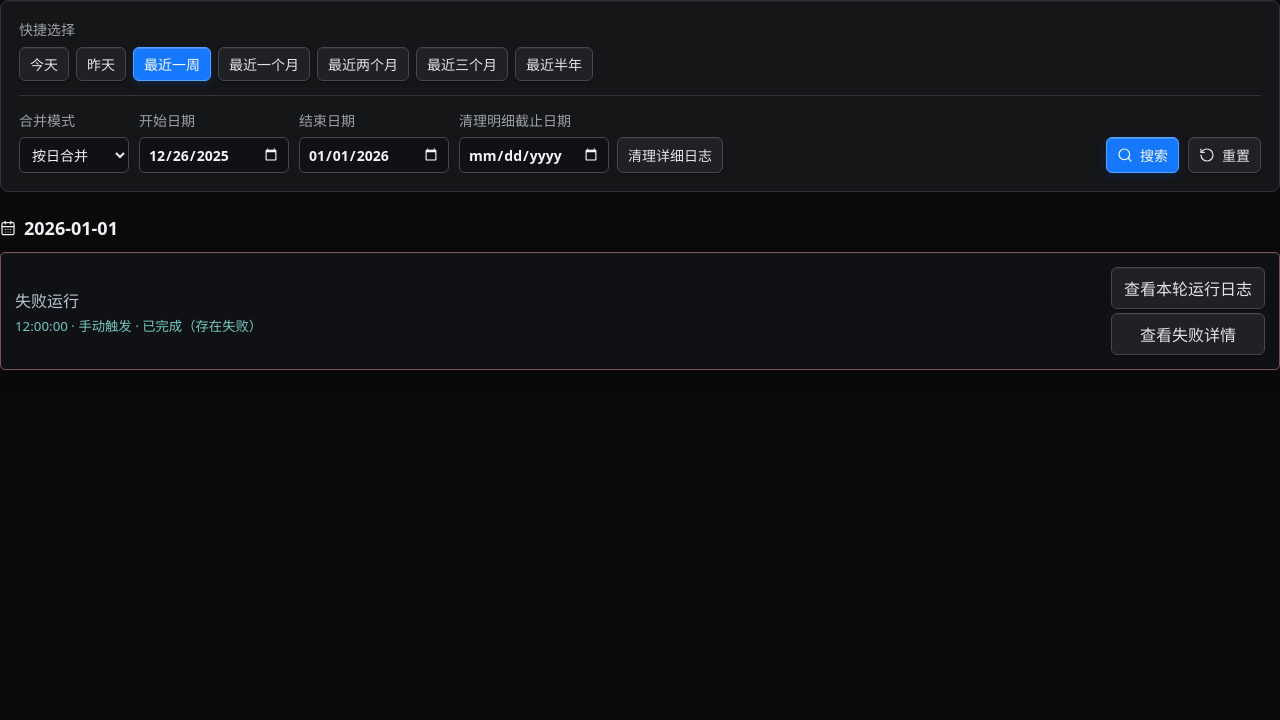
Scenario: shows the run log entry and distinguishes failure
Click the button "查看本轮运行日志". click: (1188, 288)
box: [1111,267,1265,309]
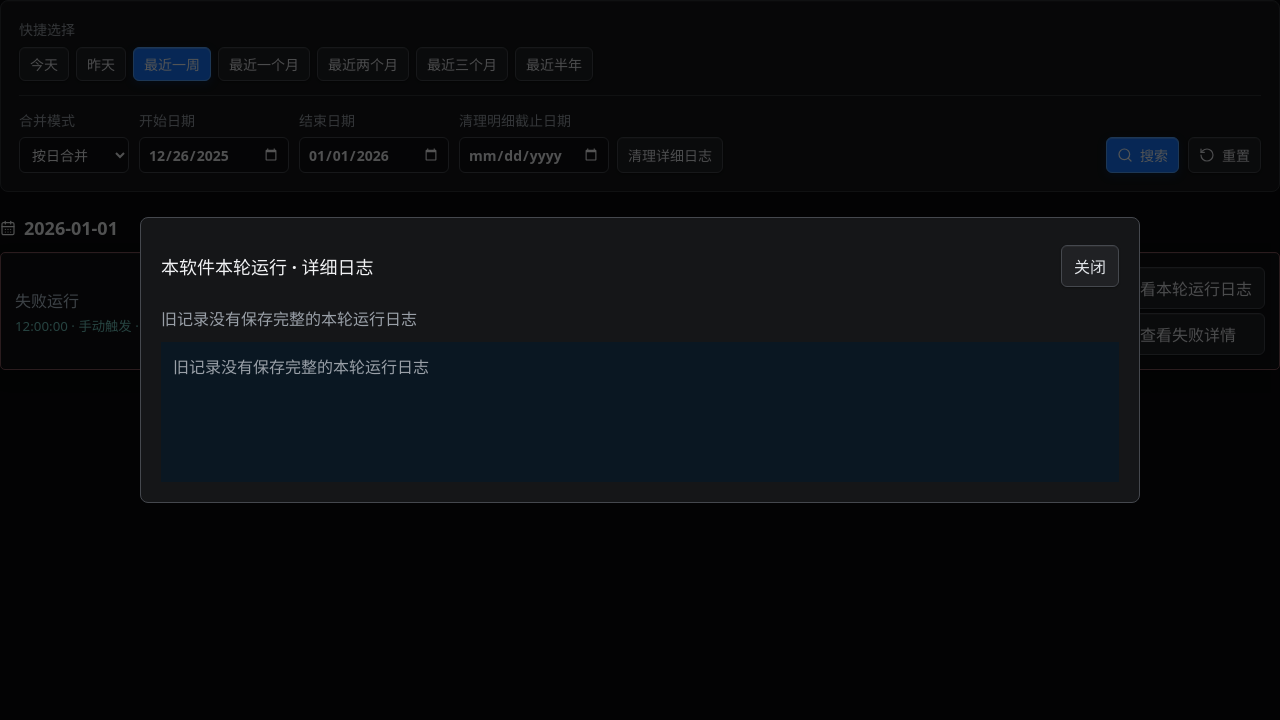
Expected: the text "旧记录没有保存完整的本轮运行日志" is shown, [161,308,417,330]
